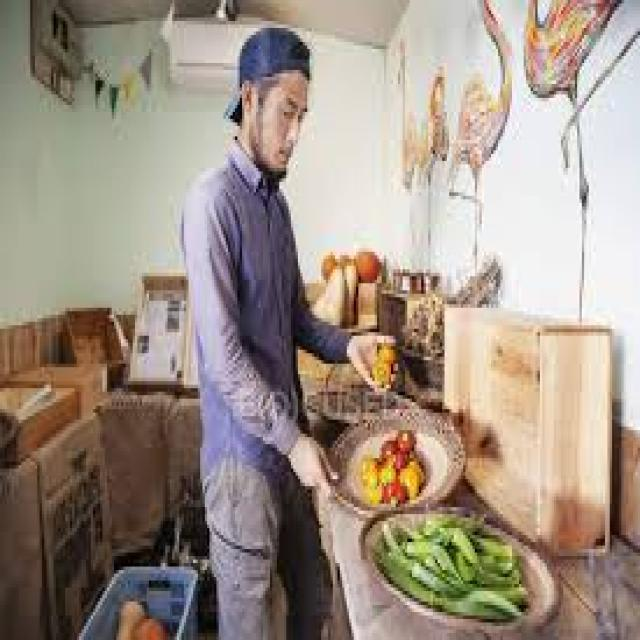cap: (221, 28, 312, 175)
